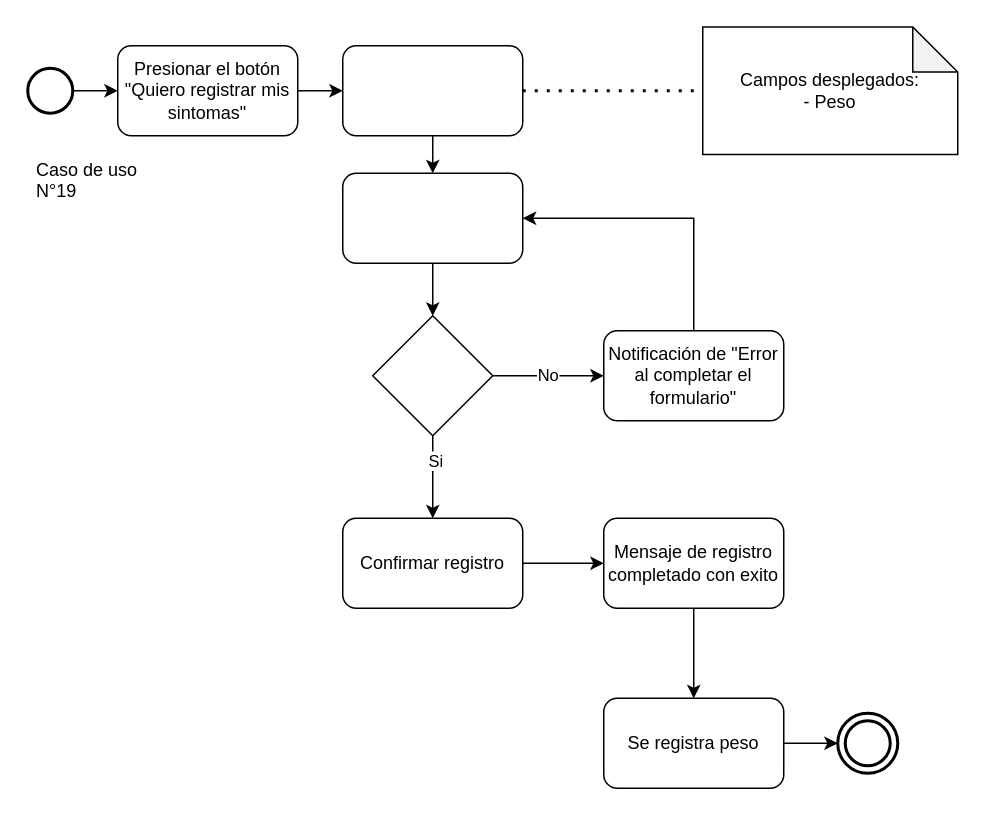
This 984x815 diagram has some shape labels left out. Here are the shapes that lost their labels. From the top down, the centre of each, then its label:
At [432,90]: "Se despliega menú con formulario".
At [432,217]: "Completar campos del formulario".
At [432,375]: "Validador de formulario".
